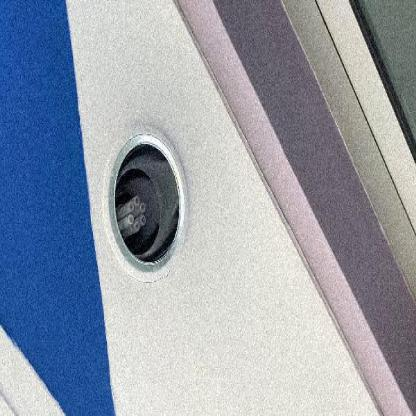light_off: (97, 91, 199, 295)
